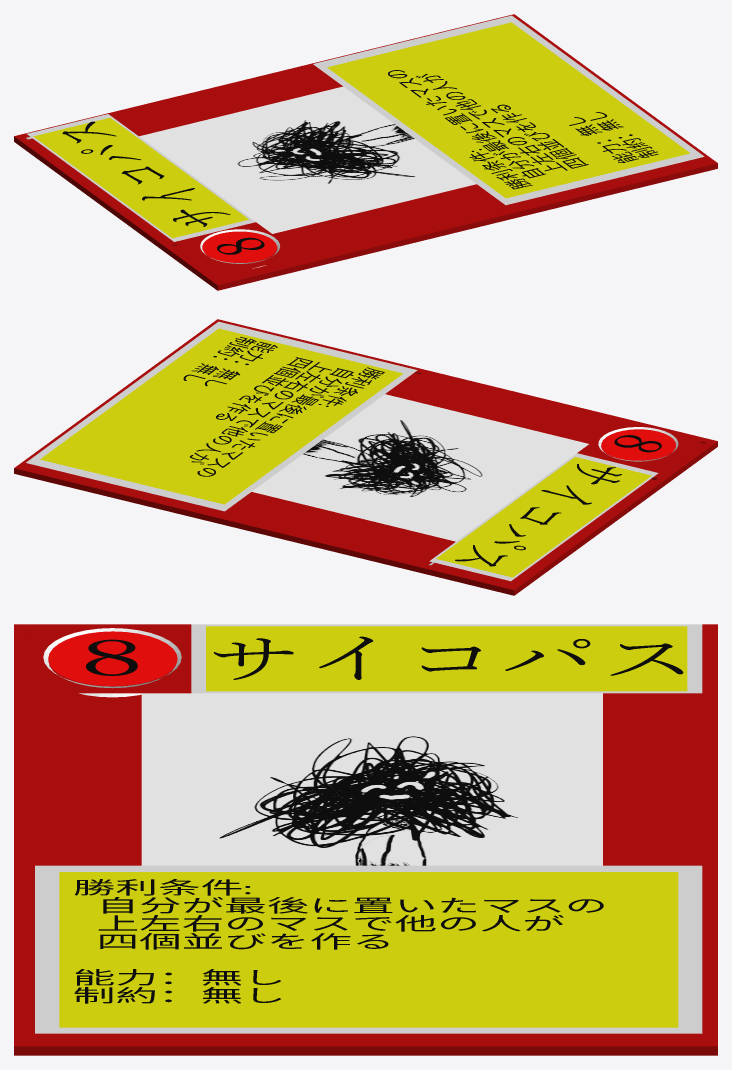
File: サイコパス赤.fbx
3 views of the same model, one above another, from view 1: azimuth 30°, elevation 25°; view 2: azimuth 150°, elevation 25°; view 3: azimuth 270°, elevation 25° (orthographic). The views are drawn at different scales.
Visible parts, largest first — view 1: 説明欄, 平面.001, カード本体.001, 名前欄, 説明文, 平面, 円, 名前; view 2: 説明欄, 平面.001, カード本体.001, 名前欄, 説明文, 円, 平面, 名前; view 3: 説明欄, 平面.001, カード本体.001, 名前欄, 説明文, 平面, 円, 名前, コスト蘭, コスト.
Part boxes in pixels (x1,y1,x2,y2): 説明欄: (313,15,704,205); 平面.001: (139,86,476,233); カード本体.001: (14,14,717,290); 名前欄: (27,114,255,241); 説明文: (388,70,658,189); 平面: (174,222,302,275); 円: (202,231,276,262); 名前: (62,121,230,226); 説明欄: (26,321,417,511); 平面.001: (252,394,588,541); カード本体.001: (14,319,717,595); 名前欄: (429,453,658,581); 説明文: (183,337,384,476); 円: (601,429,675,460); 平面: (577,419,704,472); 名前: (455,464,621,566); 説明欄: (35,865,702,1033); 平面.001: (141,693,602,865); カード本体.001: (14,624,717,1055); 名前欄: (191,624,702,693); 説明文: (74,879,603,1003); 平面: (30,624,191,693); 円: (48,631,177,686); 名前: (213,636,683,679); コスト蘭: (43,628,181,697); コスト: (86,639,137,675).
Bounding box in the file's own units: 281 × 6.07 × 198.
